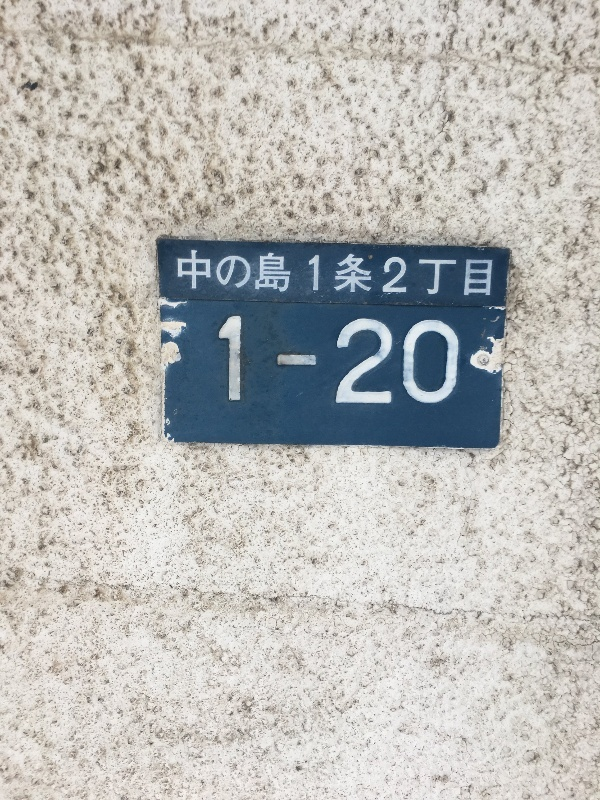text: (225, 317, 240, 408), (241, 317, 256, 408), (257, 317, 272, 408), (273, 317, 288, 408), (289, 317, 304, 408), (305, 317, 320, 408), (321, 317, 336, 408), (337, 317, 352, 408), (353, 317, 368, 408), (369, 317, 384, 408), (385, 317, 400, 408), (401, 317, 416, 408), (417, 317, 432, 408), (433, 317, 448, 408), (449, 317, 463, 408), (177, 249, 192, 300), (193, 249, 208, 300), (209, 249, 224, 300), (225, 249, 240, 300), (241, 249, 256, 300), (257, 249, 272, 300), (273, 249, 288, 300), (289, 249, 304, 300), (305, 249, 320, 300), (321, 249, 336, 300), (337, 249, 352, 300), (353, 249, 368, 300), (369, 249, 384, 300), (385, 249, 400, 300), (401, 249, 416, 300), (417, 249, 432, 300), (433, 249, 448, 300), (449, 249, 464, 300), (465, 249, 480, 300), (481, 249, 494, 300), (220, 317, 224, 408)
